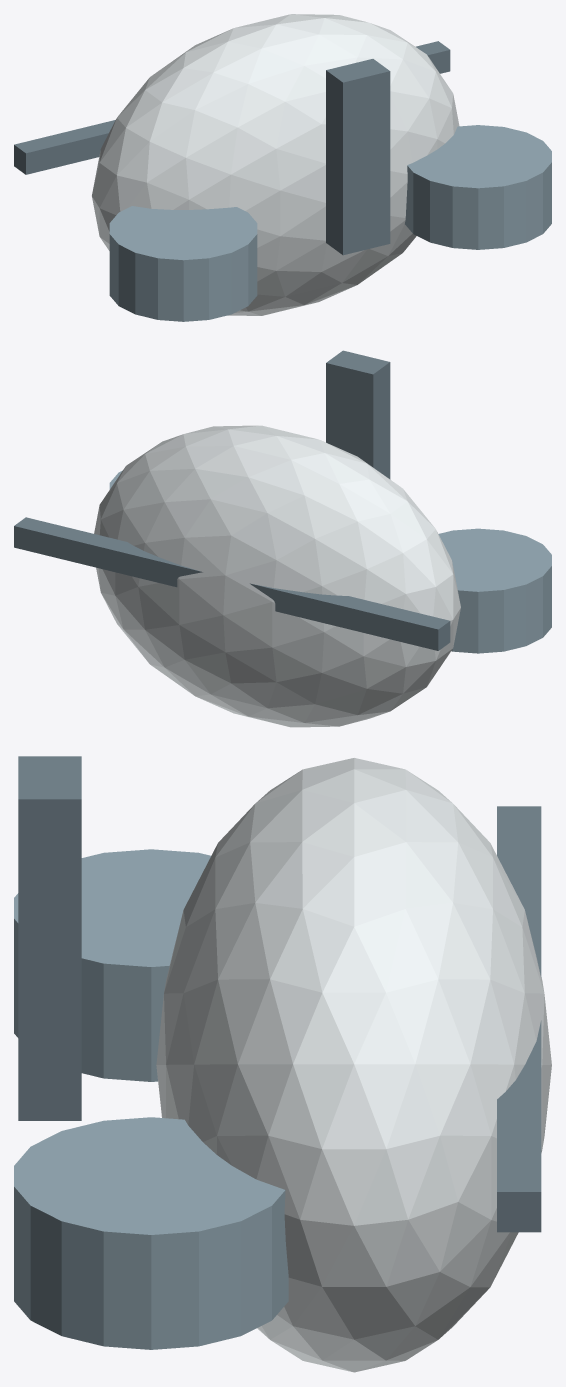
File: respirator_lod1.glb
3 renders of one model, top to bottom at view 1: azimuth 30°, elevation 25°; view 2: azimuth 150°, elevation 25°; view 3: azimuth 270°, elevation 25°, orthographic. The views are drawn at different scales.
Visible parts, largest first — view 1: mask, filter-0.25, filter0.25, nose-rib, strap; view 2: mask, filter-0.25, strap, nose-rib; view 3: mask, filter0.25, nose-rib, filter-0.25, strap.
Part boxes in pixels (x1,y1,x2,y2): mask: (92, 14, 459, 315); filter-0.25: (109, 206, 257, 321); filter0.25: (405, 125, 551, 249); nose-rib: (326, 59, 390, 255); strap: (14, 41, 450, 174); mask: (94, 425, 460, 727); filter-0.25: (438, 528, 551, 653); strap: (14, 517, 450, 650); nose-rib: (326, 350, 390, 479); mask: (156, 758, 551, 1372); filter0.25: (14, 1117, 288, 1349); nose-rib: (18, 756, 81, 1120); filter-0.25: (14, 849, 210, 1081); strap: (497, 806, 541, 1232).
Size of the model in its own units: 0.72 by 0.478 by 0.4243.
